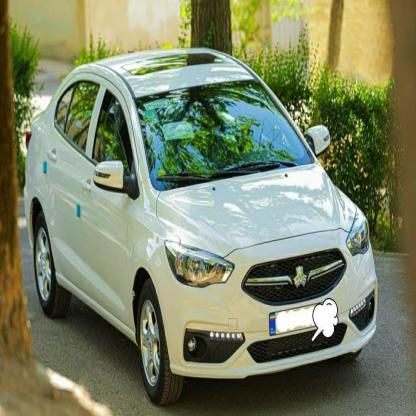Car: (21, 53, 384, 416)
